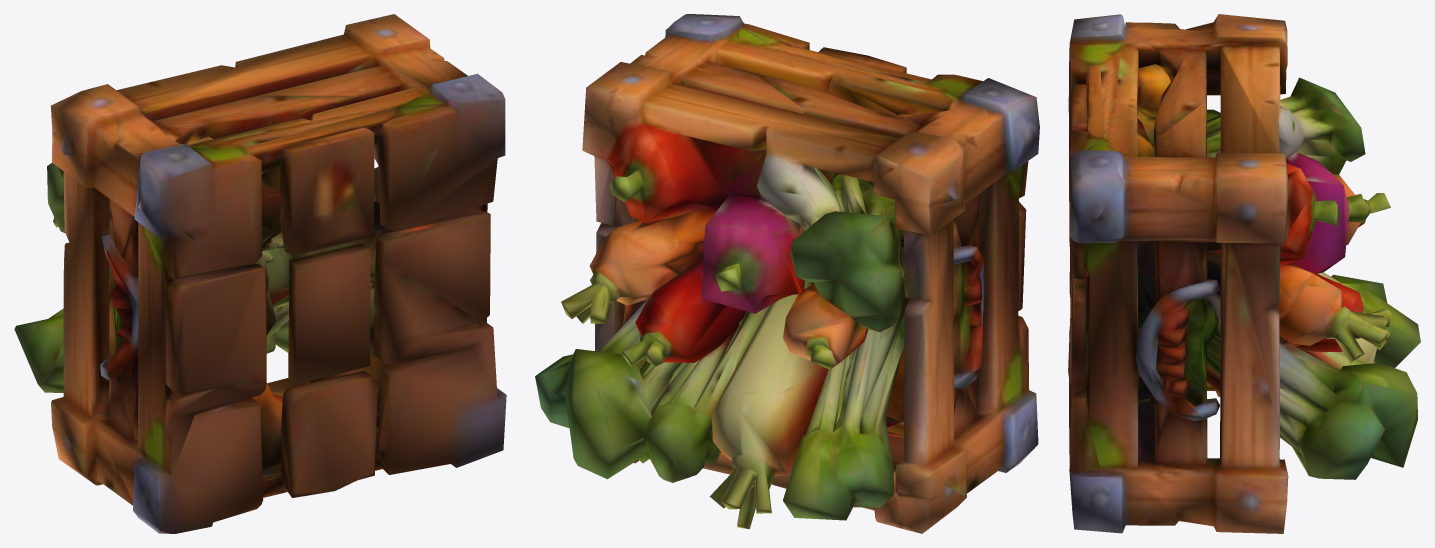
The picture shows the model from 3 angles, left to right: view 1: azimuth 30°, elevation 25°; view 2: azimuth 150°, elevation 25°; view 3: azimuth 270°, elevation 25°; orthographic projection. The views are drawn at different scales.
Parts seen in each view (by area): view 1: material; view 2: material; view 3: material.
Part boxes in pixels (bbox=[...]): material: bbox=[14, 14, 506, 533]; material: bbox=[535, 14, 1039, 533]; material: bbox=[1068, 14, 1420, 533].
Size of the model in its own units: 1 by 0.9832 by 0.8663.
Materials: 1 (1 with a texture image).
